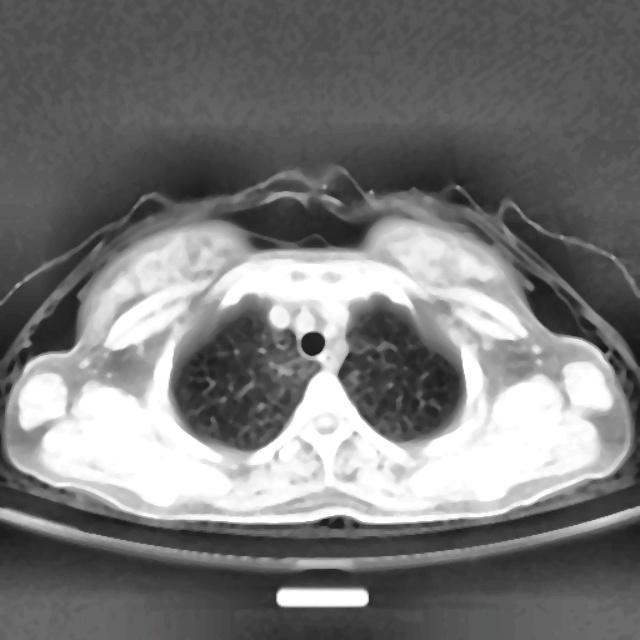covid: (1, 170, 636, 536)
